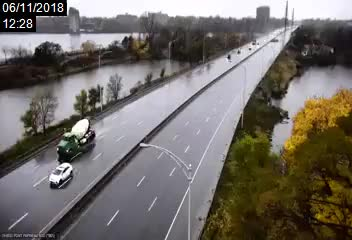personal_car: (48, 160, 75, 186)
truck: (58, 118, 97, 159)
